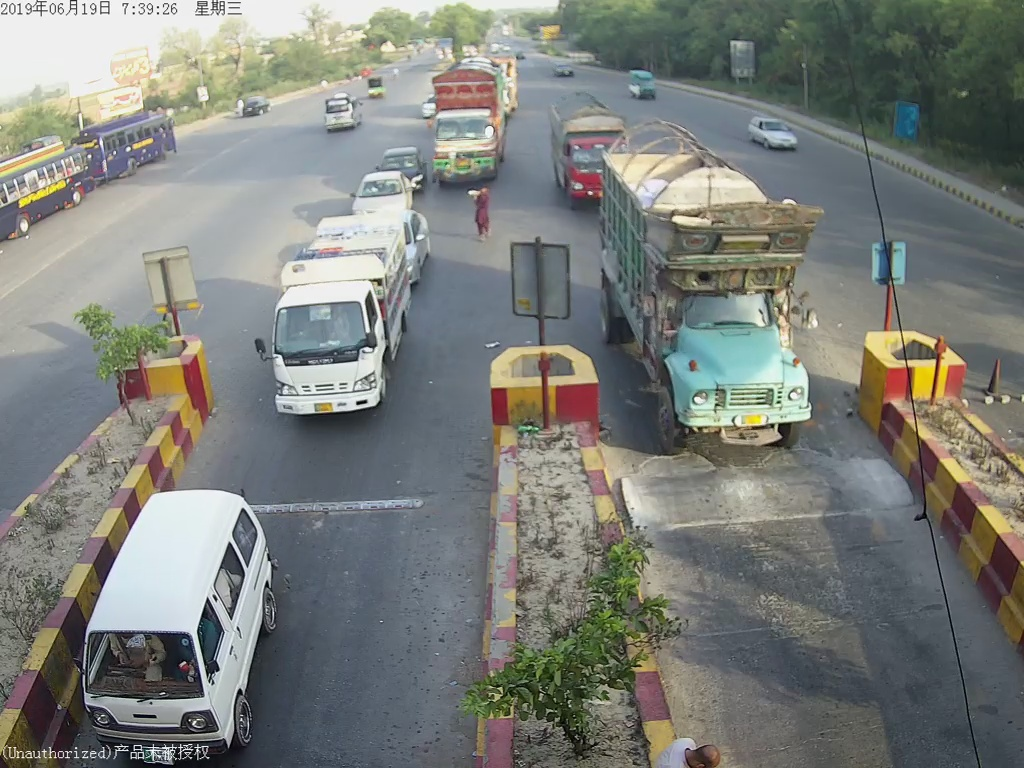Cat-1: (80, 495, 273, 742)
Cat-2: (246, 223, 416, 425)
Cat-4: (602, 134, 826, 464), (426, 73, 506, 191), (551, 103, 595, 201)
